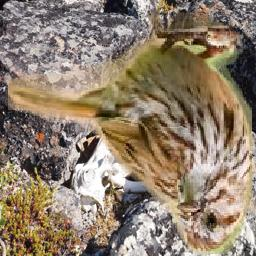Sparrow: (8, 10, 252, 254)
